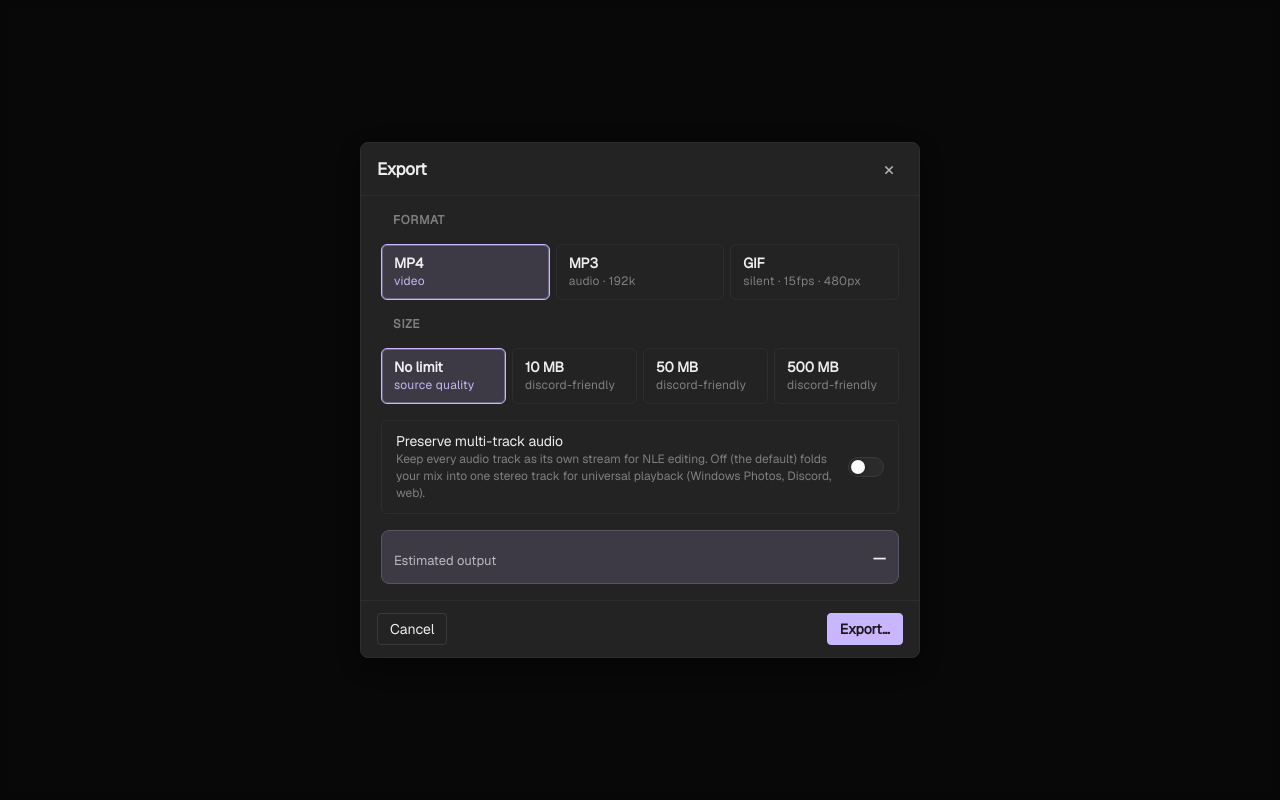
it: ExportModal › changes the confirm label when GIF format is selected
Click the radio button labelled "GIF silent · 15fps · 480px". click: [815, 272]
box: [730,244,899,300]
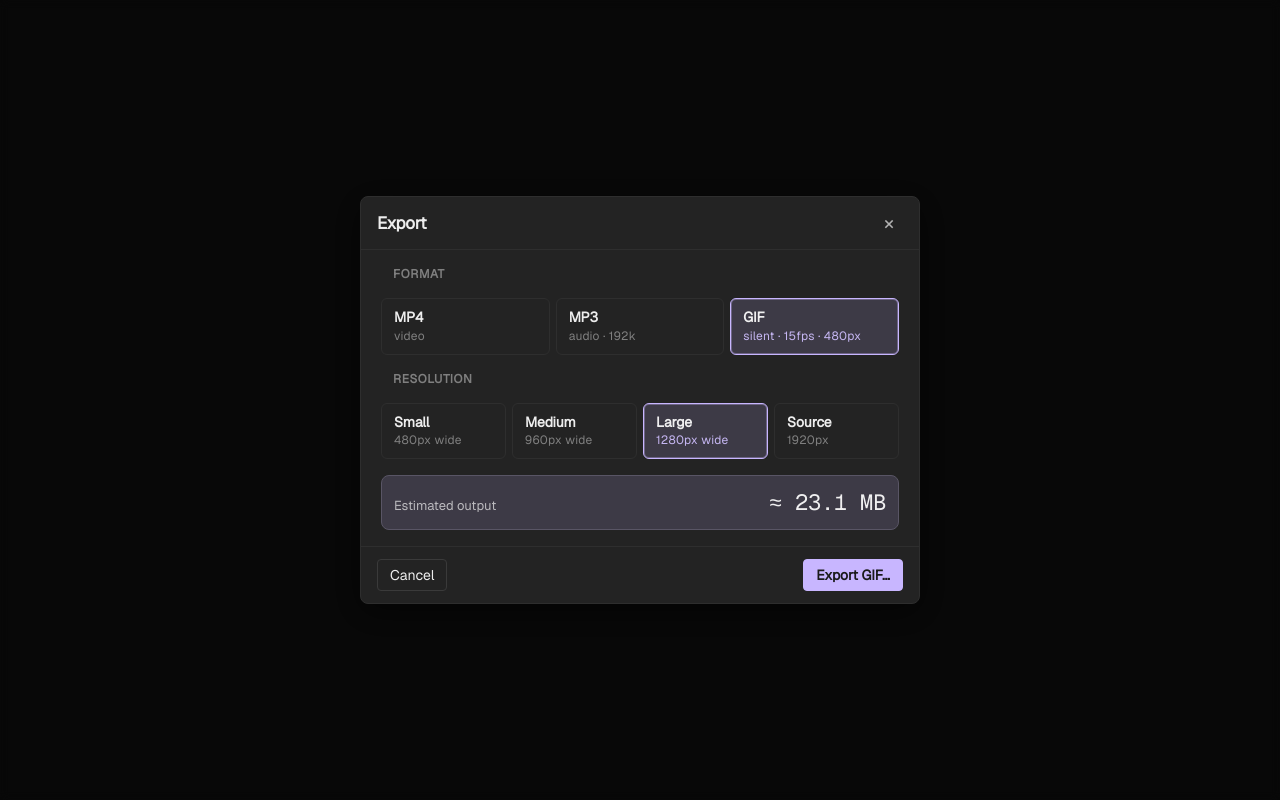
Expected: the button "Export GIF…" is shown, [803,559,903,591]
